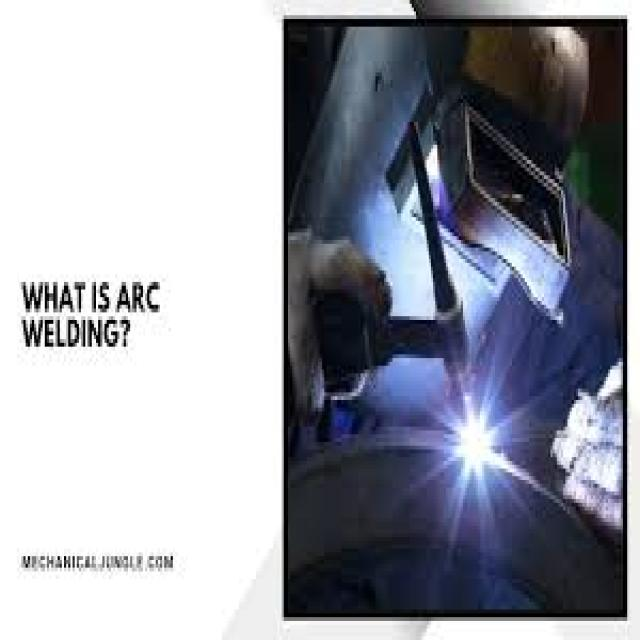welding: (452, 403, 496, 476)
